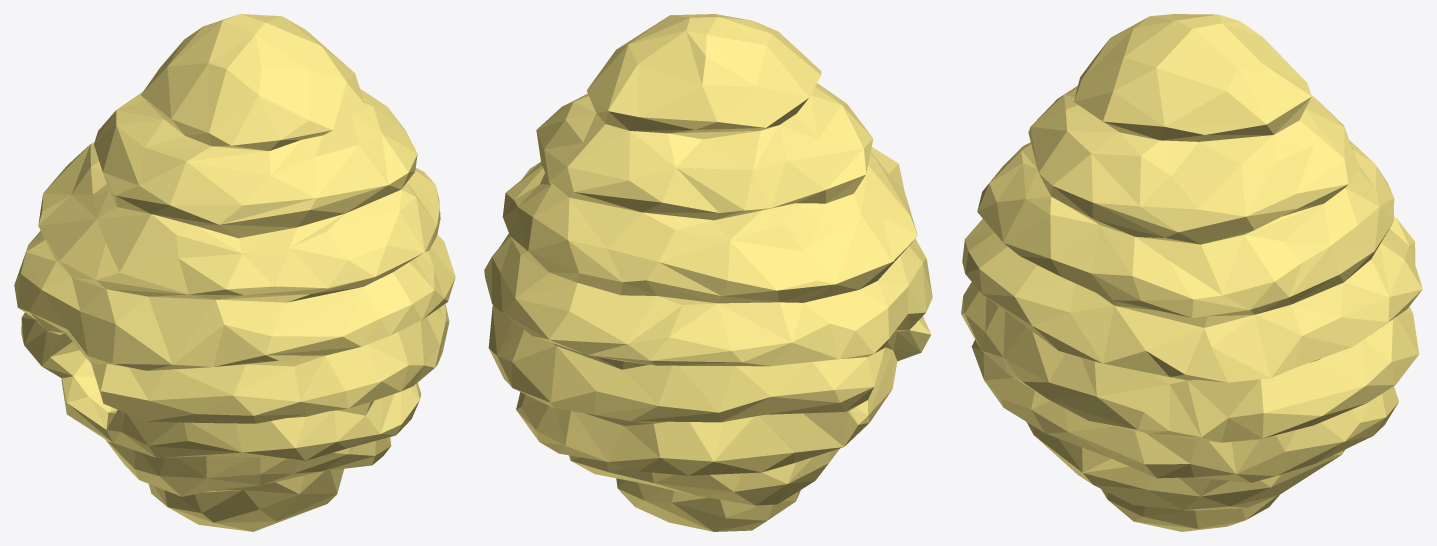
Rendered from hive.fbx.
3 views of the same model, side by side, from view 1: azimuth 30°, elevation 25°; view 2: azimuth 150°, elevation 25°; view 3: azimuth 270°, elevation 25° (orthographic).
Visible parts, largest first — view 1: Hive; view 2: Hive; view 3: Hive.
Boxes of the visible parts, bbox=[...] form: Hive: bbox=[14, 14, 455, 531]; Hive: bbox=[484, 14, 932, 531]; Hive: bbox=[961, 14, 1422, 531].
Size of the model in its own units: 133 by 161 by 134.
